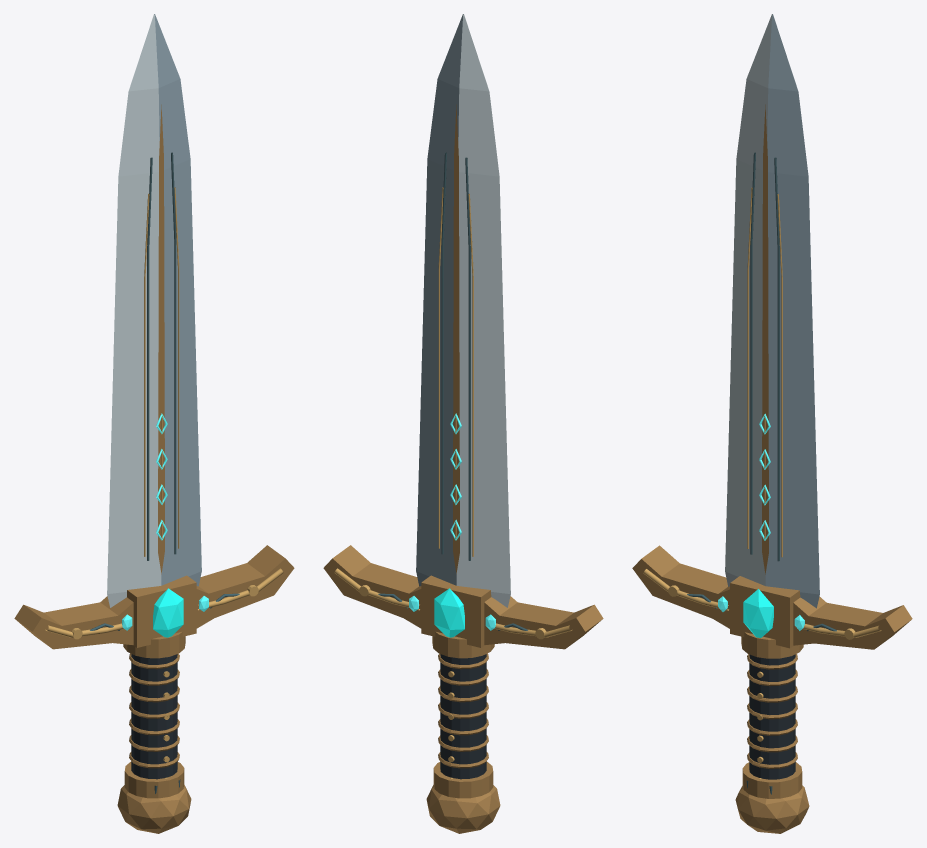
The model's file is espada_guardian.glb.
3 views of the same model, side by side, from view 1: azimuth 30°, elevation 25°; view 2: azimuth 150°, elevation 25°; view 3: azimuth 330°, elevation 25° (orthographic).
Parts seen in each view (by area): view 1: Hoja - acero facetado, Guarda alada, Empunadura, Nervio de la hoja, Centro de la guarda, Pomo, Collar inferior, Canal de acero.001, Canal de acero, Gema del guardian, Collar superior, Filete de metal (+1 smaller); view 2: Hoja - acero facetado, Guarda alada, Empunadura, Nervio de la hoja.001, Centro de la guarda, Pomo, Collar inferior, Canal de acero.003, Canal de acero.002, Gema del guardian.001, Collar superior, Filete de metal.002 (+1 smaller); view 3: Hoja - acero facetado, Guarda alada, Empunadura, Nervio de la hoja, Centro de la guarda, Pomo, Collar inferior, Canal de acero, Canal de acero.001, Gema del guardian, Collar superior, Filete de metal.001 (+1 smaller).
Part boxes in pixels (box(x1,y1,x2,y2)): Hoja - acero facetado: box(107, 14, 201, 607); Guarda alada: box(14, 545, 294, 649); Empunadura: box(131, 654, 177, 779); Nervio de la hoja: box(158, 104, 164, 574); Centro de la guarda: box(127, 575, 196, 647); Pomo: box(117, 784, 191, 833); Collar inferior: box(124, 761, 184, 798); Canal de acero.001: box(171, 152, 176, 554); Canal de acero: box(147, 157, 152, 560); Gema del guardian: box(153, 588, 183, 637); Collar superior: box(123, 631, 185, 658); Filete de metal: box(144, 193, 149, 556); Hoja - acero facetado: box(416, 14, 510, 607); Guarda alada: box(323, 545, 603, 649); Empunadura: box(440, 654, 486, 779); Nervio de la hoja.001: box(453, 104, 459, 574); Centro de la guarda: box(421, 575, 491, 647); Pomo: box(426, 784, 500, 833); Collar inferior: box(433, 761, 493, 798); Canal de acero.003: box(441, 152, 446, 554); Canal de acero.002: box(465, 157, 470, 560); Gema del guardian.001: box(434, 588, 464, 637); Collar superior: box(432, 631, 494, 658); Filete de metal.002: box(468, 193, 473, 556); Hoja - acero facetado: box(725, 14, 819, 608); Guarda alada: box(632, 545, 912, 649); Empunadura: box(749, 654, 795, 779); Nervio de la hoja: box(762, 104, 768, 574); Centro de la guarda: box(730, 576, 800, 648); Pomo: box(735, 785, 809, 833); Collar inferior: box(742, 762, 802, 798); Canal de acero: box(750, 152, 755, 554); Canal de acero.001: box(774, 157, 779, 561); Gema del guardian: box(743, 589, 773, 637); Collar superior: box(741, 632, 803, 658); Filete de metal.001: box(777, 194, 782, 557).
Bounding box in the file's own units: 2.32 × 6.9 × 0.58.
